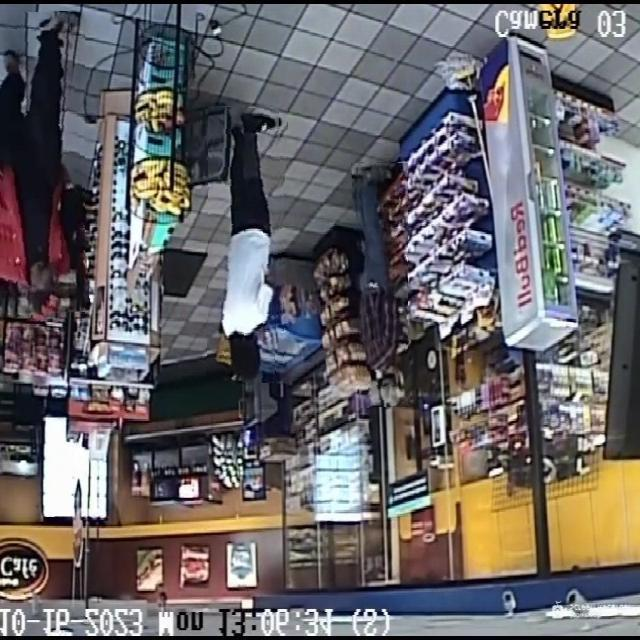Normal: (0, 12, 85, 317), (208, 106, 285, 382), (353, 162, 408, 407)
